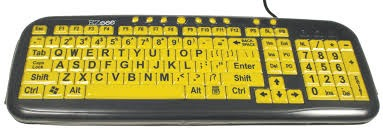keyboard: (14, 9, 380, 131)
